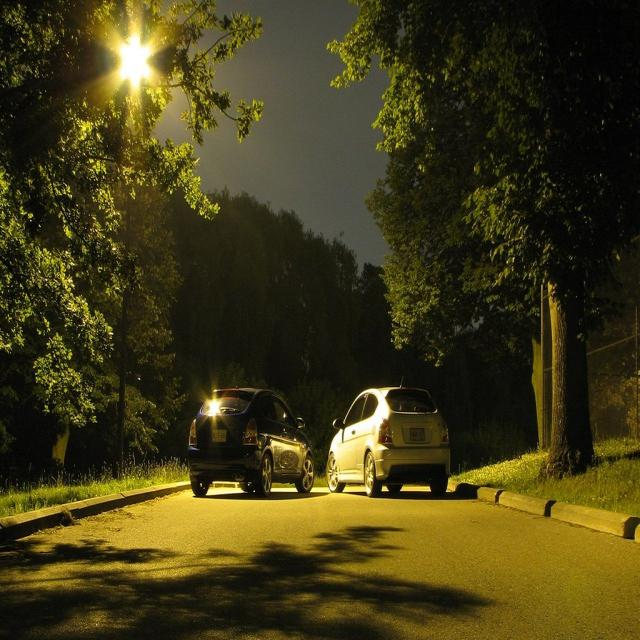car: (183, 378, 317, 502), (324, 386, 453, 505)
